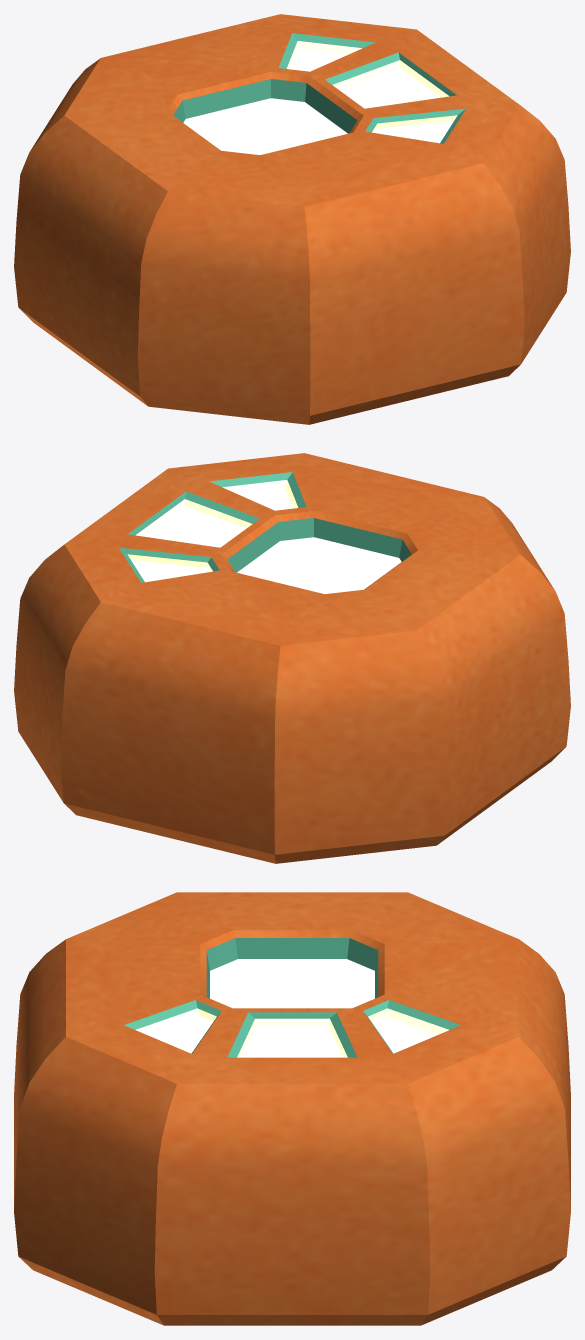
File: CenouraPataA.fbx
3 renders of one model, top to bottom at view 1: azimuth 30°, elevation 25°; view 2: azimuth 150°, elevation 25°; view 3: azimuth 270°, elevation 25°, orthographic. The views are drawn at different scales.
Visible parts, largest first — view 1: PatasA; view 2: PatasA; view 3: PatasA.
Part boxes in pixels (x1=…): PatasA: x1=14, y1=14, x2=570, y2=424; PatasA: x1=14, y1=453, x2=570, y2=863; PatasA: x1=14, y1=892, x2=570, y2=1325.
Bounding box in the file's own units: 6.1 × 2.92 × 6.1.
